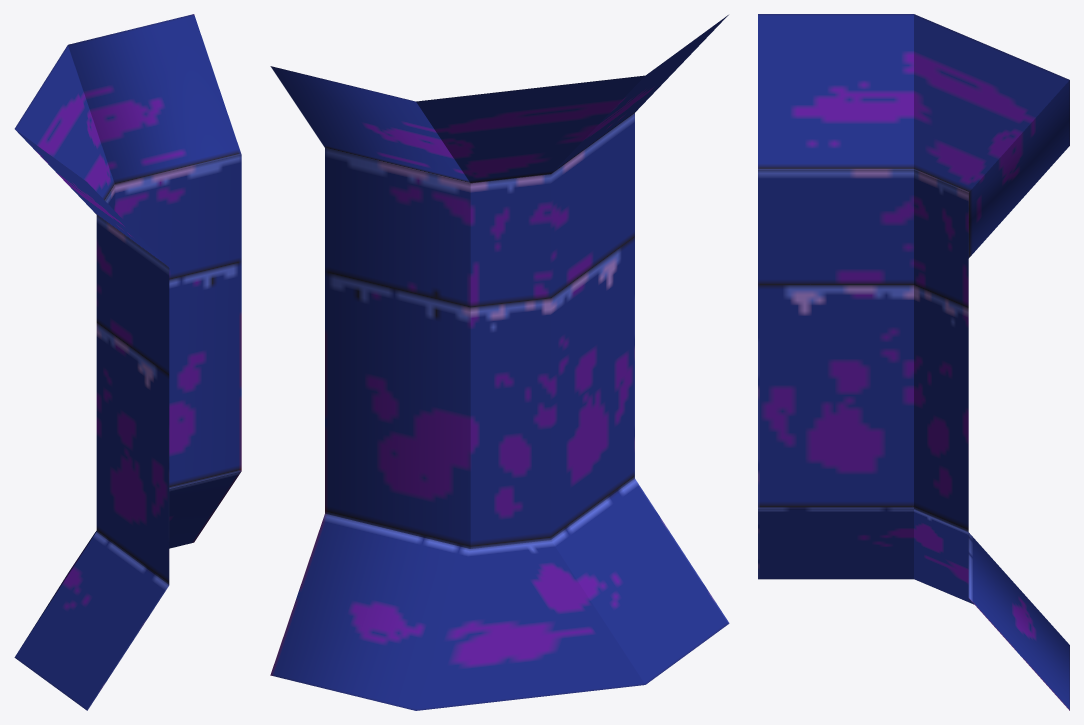
The model's file is curvedwall_corner_02.fbx.
3 renders of one model, left to right at view 1: azimuth 30°, elevation 25°; view 2: azimuth 150°, elevation 25°; view 3: azimuth 270°, elevation 25°, orthographic. The views are drawn at different scales.
Visible parts, largest first — view 1: curvedwall_corner_02; view 2: curvedwall_corner_02; view 3: curvedwall_corner_02.
Boxes of the visible parts, x1,y1,x2,y2 form: curvedwall_corner_02: [14, 14, 241, 710]; curvedwall_corner_02: [270, 15, 729, 710]; curvedwall_corner_02: [758, 14, 1069, 710].
Bounding box in the file's own units: 400 × 800 × 400.
